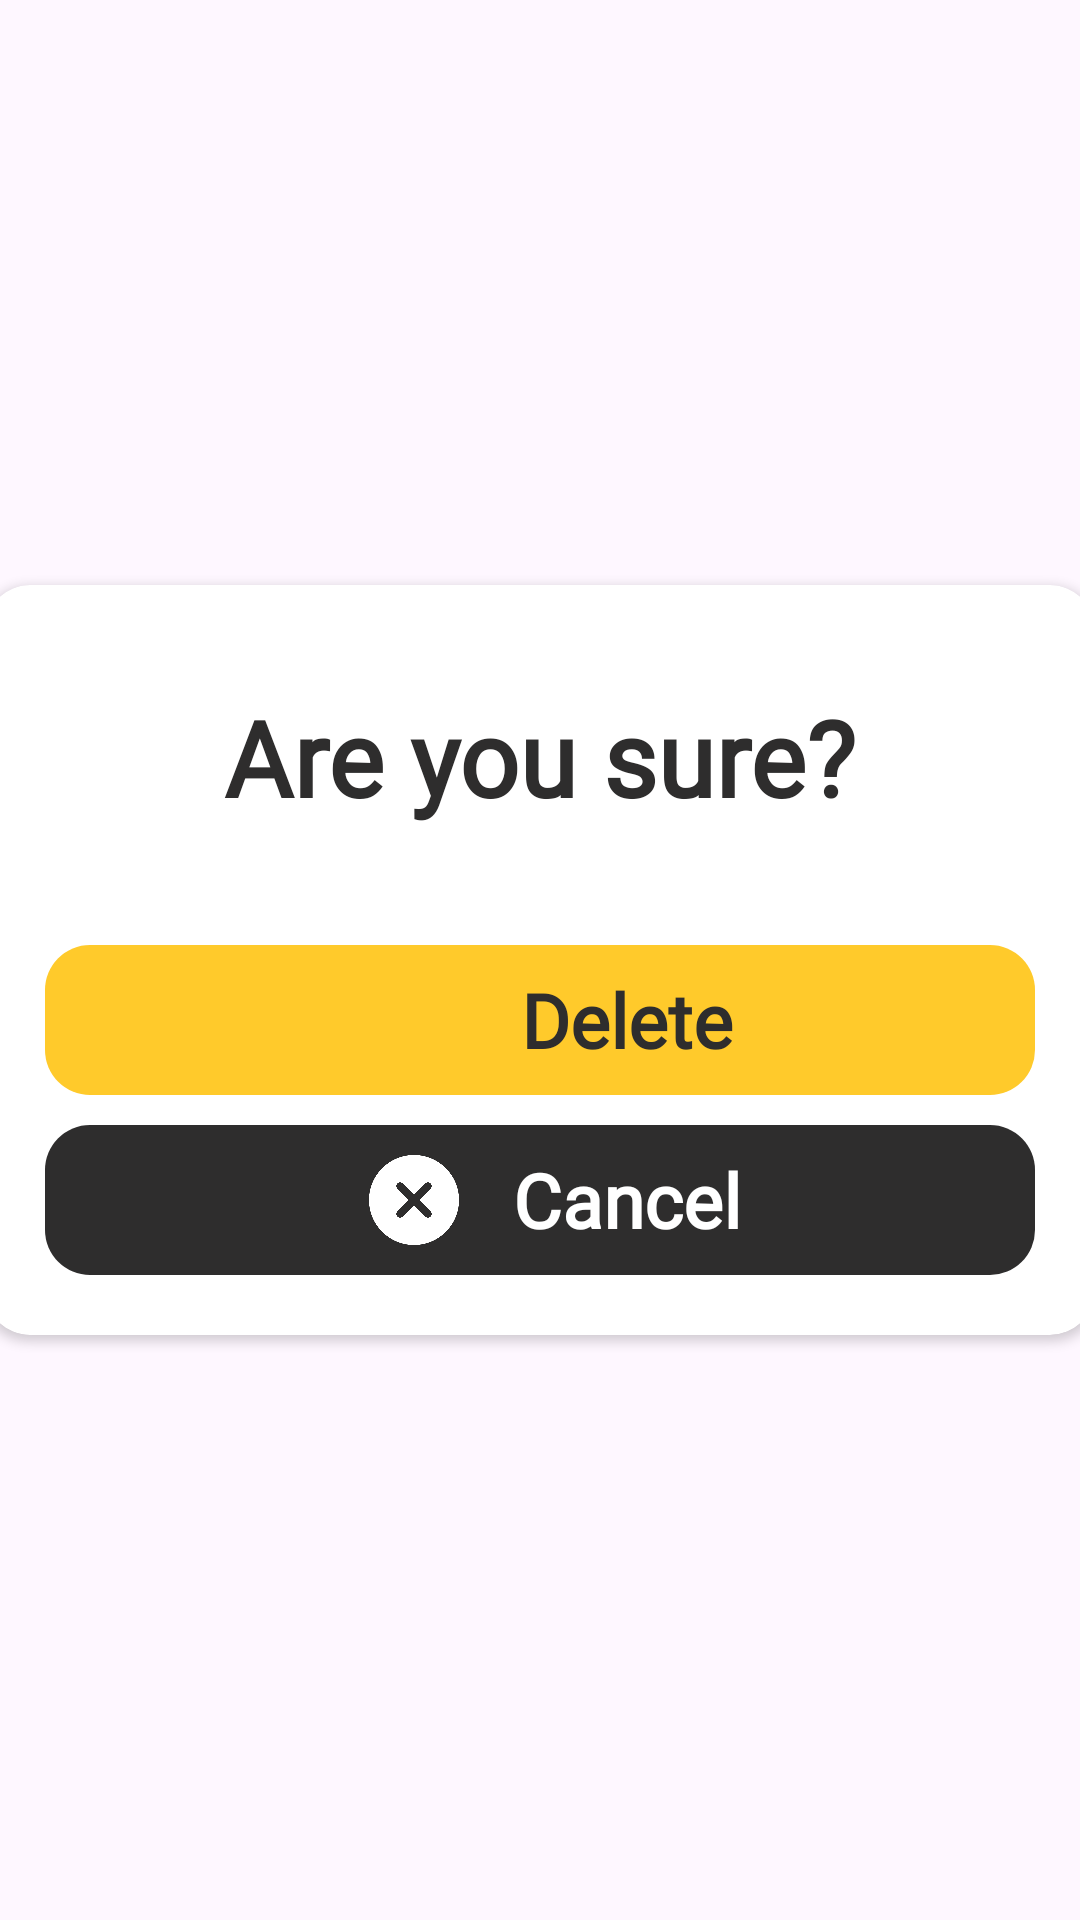

Screen size 1080 x 1920. Icon name, then its box in pixels as (x1, y1, x2, y2):
cross: (369, 1155, 459, 1245)
